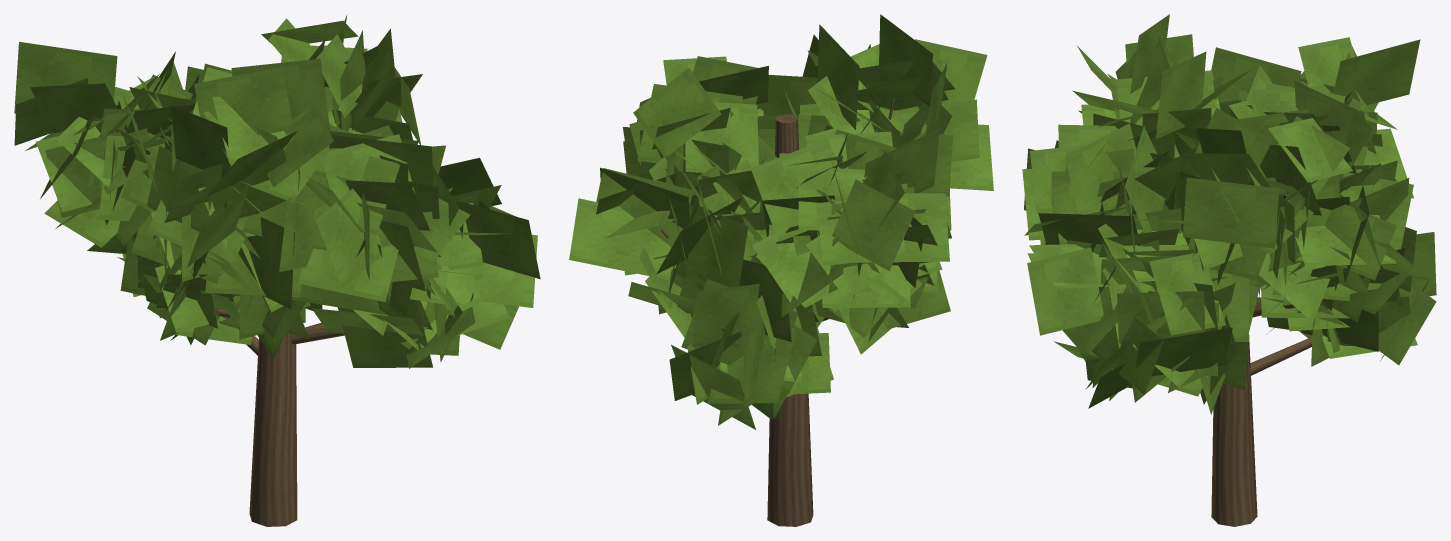
The picture shows the model from 3 angles, left to right: view 1: azimuth 30°, elevation 25°; view 2: azimuth 150°, elevation 25°; view 3: azimuth 270°, elevation 25°; orthographic projection. The views are drawn at different scales.
Visible parts, largest first — view 1: oak-leaf, oak-bark; view 2: oak-leaf, oak-bark; view 3: oak-leaf, oak-bark.
Boxes of the visible parts, x1,y1,x2,y2 form: oak-leaf: [14, 14, 540, 368]; oak-bark: [213, 207, 435, 526]; oak-leaf: [569, 14, 993, 429]; oak-bark: [660, 99, 894, 526]; oak-leaf: [1022, 14, 1436, 414]; oak-bark: [1211, 194, 1325, 526].
Size of the model in its own units: 7.91 by 9.31 by 7.55.
2 materials, 2 textured.
